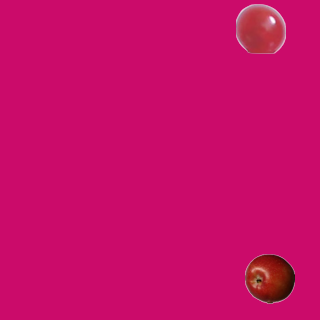Apple Braeburn: (244, 253, 294, 303)
Redcurrant: (235, 3, 285, 53)
